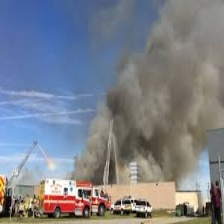smoke: (81, 15, 222, 179)
